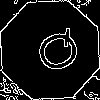Q: (25, 25, 85, 81)
